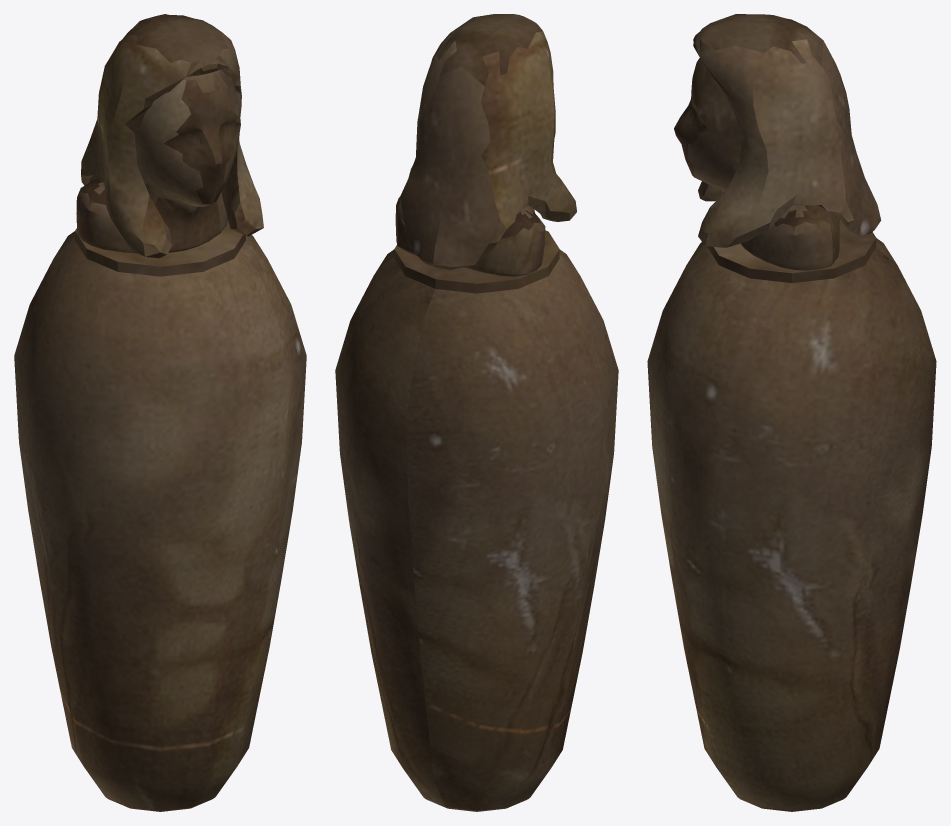
The model's file is Puzzle 6 Jar Imsety.fbx.
3 views of the same model, side by side, from view 1: azimuth 30°, elevation 25°; view 2: azimuth 150°, elevation 25°; view 3: azimuth 270°, elevation 25° (orthographic). The views are drawn at different scales.
Parts seen in each view (by area): view 1: Puzzle 6 Jar Imsety; view 2: Puzzle 6 Jar Imsety; view 3: Puzzle 6 Jar Imsety.
Part boxes in pixels (box(x1,y1,x2,y2)): Puzzle 6 Jar Imsety: box(14, 14, 306, 811); Puzzle 6 Jar Imsety: box(335, 14, 618, 811); Puzzle 6 Jar Imsety: box(647, 14, 936, 811).
Bounding box in the file's own units: 99.12 × 289 × 99.12.
